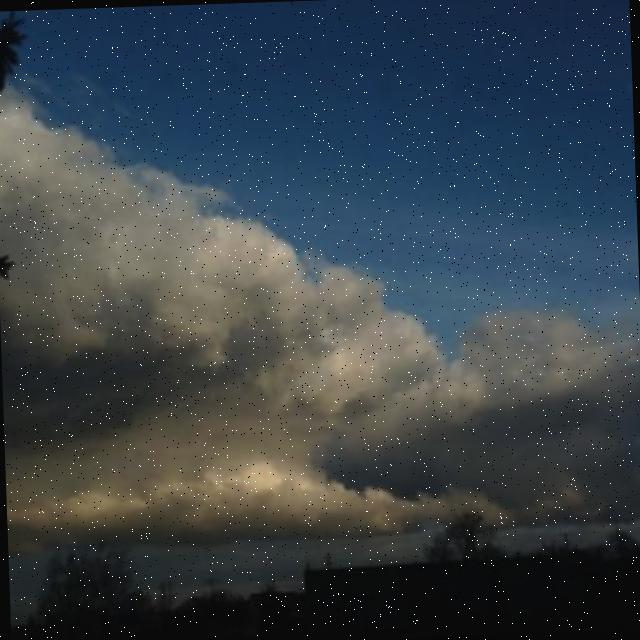Cu: (1, 152, 640, 501)
